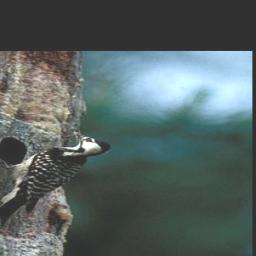Woodpecker: (0, 130, 113, 228)
